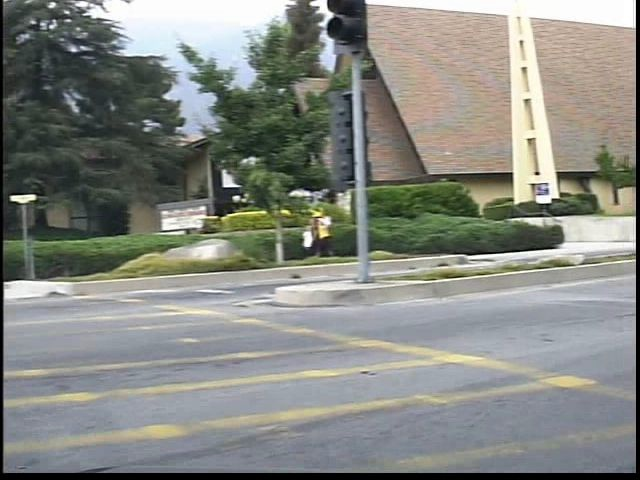person: (321, 206, 351, 263)
